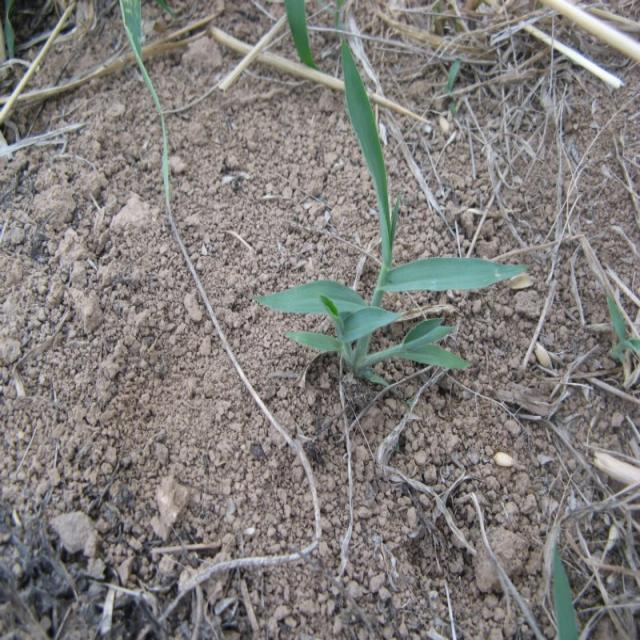bg: (254, 31, 539, 396)
